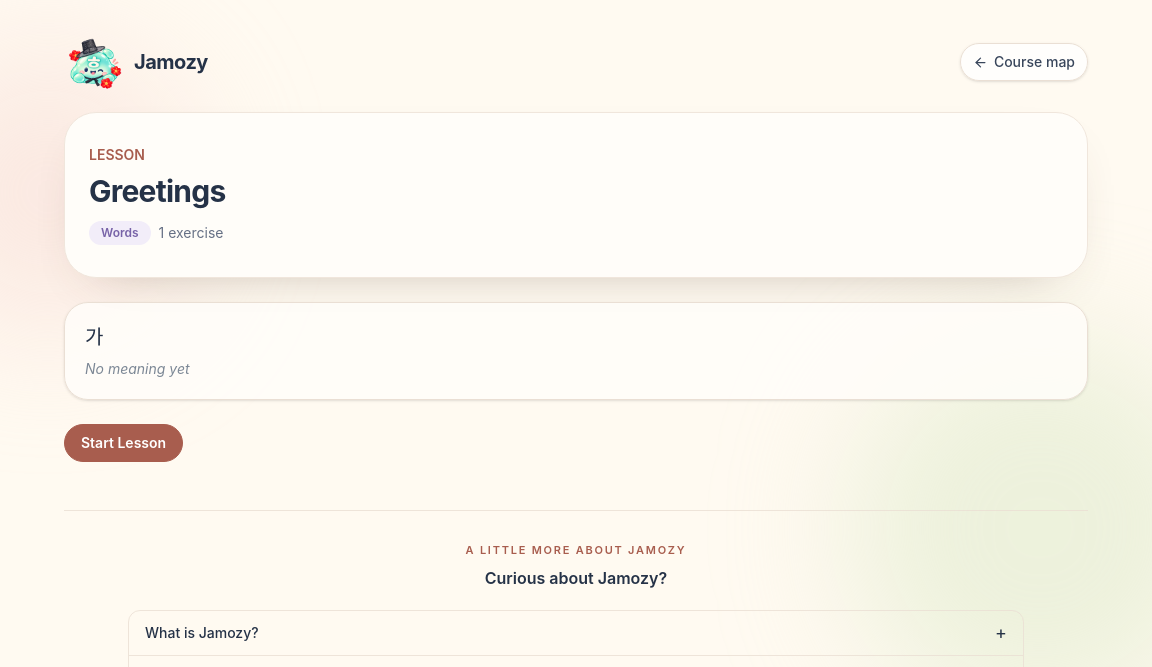
Test case: LessonDetailPage › leaves a started lesson for its preview with Exit lesson
Click the button "Start Lesson": click(124, 443) [64,424,183,462]
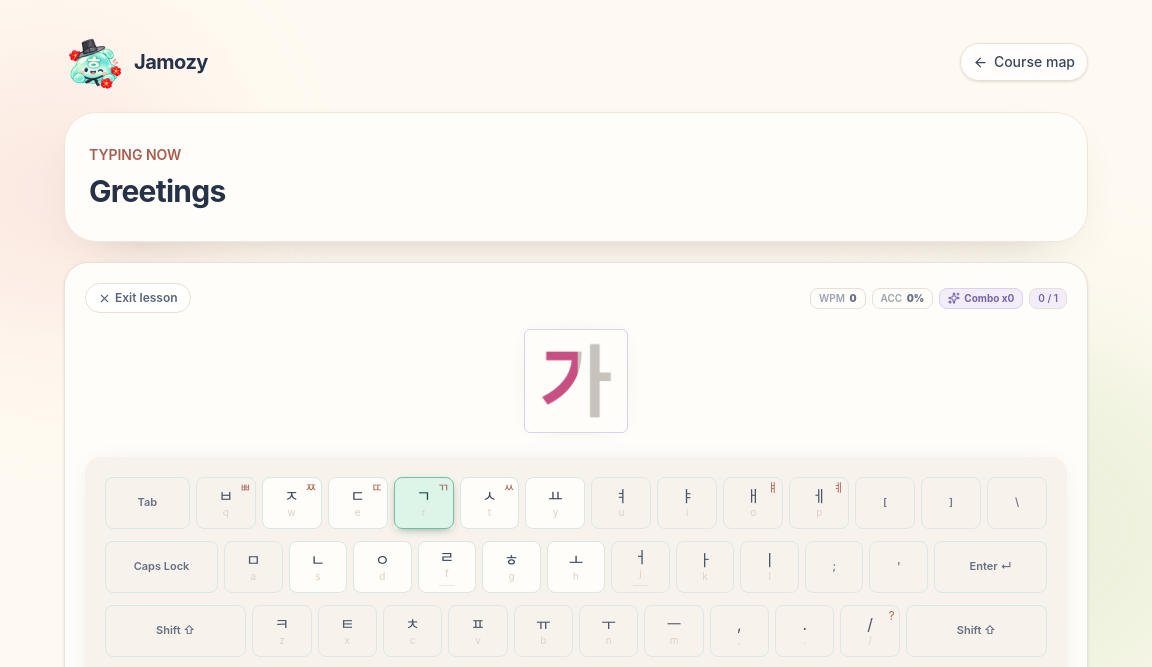
Click the button "Exit lesson": click(138, 298) [85,283,191,313]
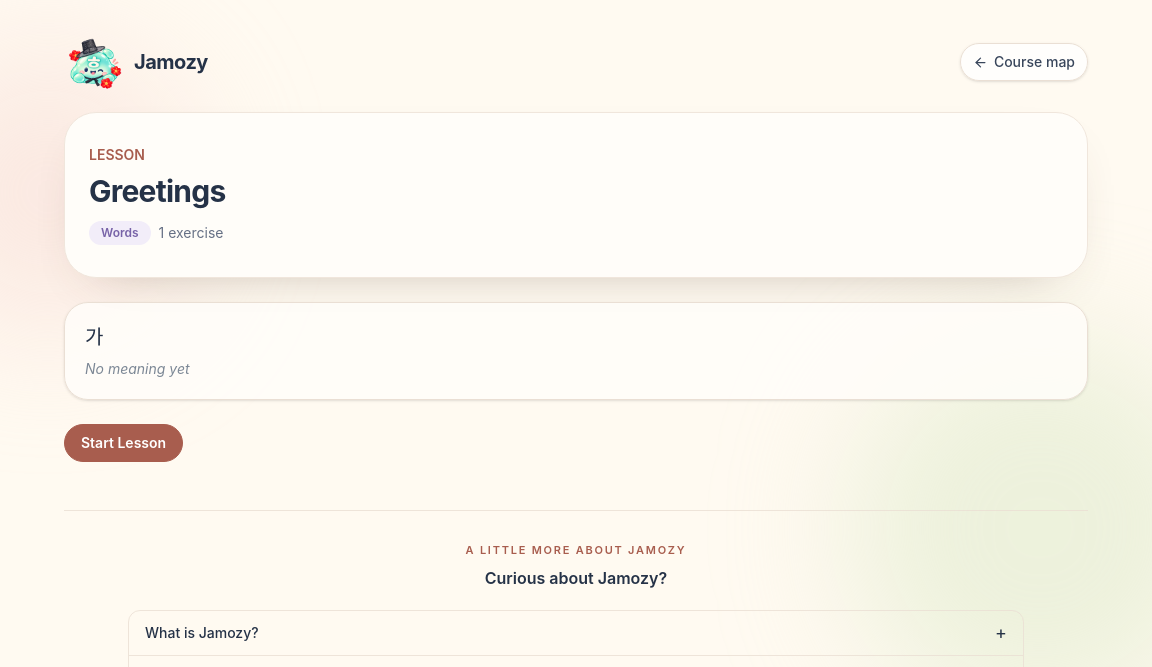
Expected: the button "Start Lesson" is shown, [64,424,183,462]
